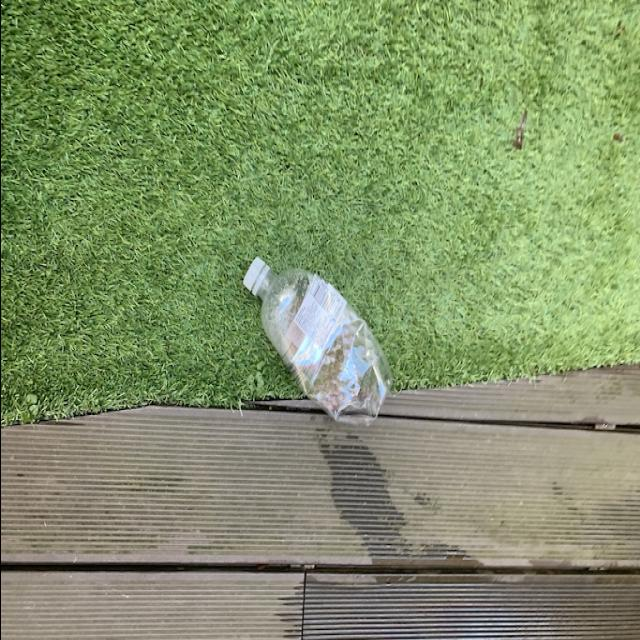litter: (240, 254, 392, 426)
